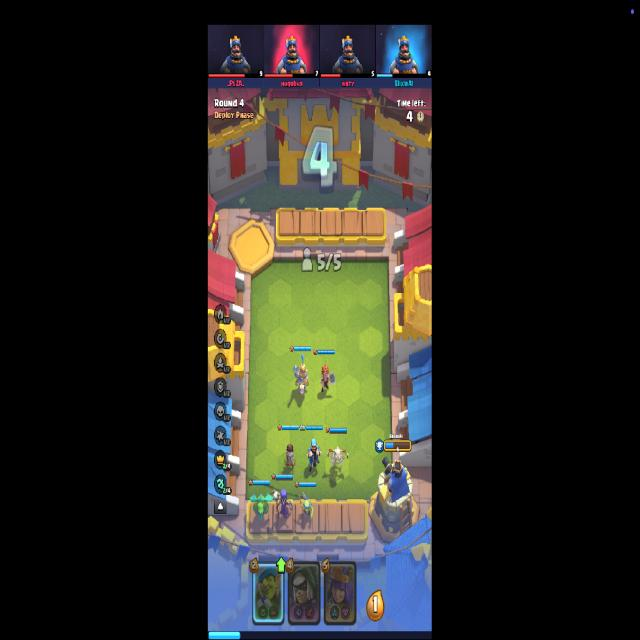baby_dragon: (249, 490, 273, 522)
prince: (294, 352, 310, 398)
princess: (284, 441, 296, 474)
skeleton_dragon: (326, 446, 348, 469)
spear_goblin: (297, 493, 314, 520)
valkyrie: (320, 365, 335, 393)
witch: (272, 488, 294, 519)
wizard: (306, 438, 322, 473)
